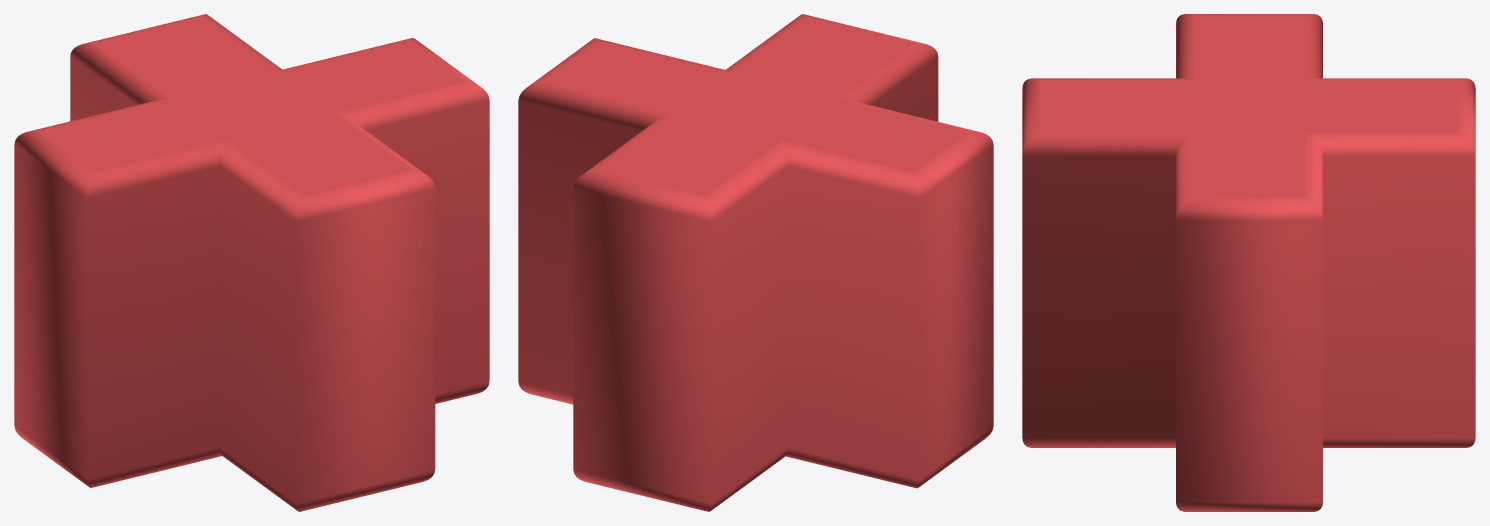
File: MathSymbol_Plus.glb
3 renders of one model, left to right at view 1: azimuth 30°, elevation 25°; view 2: azimuth 150°, elevation 25°; view 3: azimuth 270°, elevation 25°, orthographic.
Visible parts, largest first — view 1: Text; view 2: Text; view 3: Text.
Boxes of the visible parts, left/top/right/bottom form: Text: left=14, top=14, right=489, bottom=511; Text: left=518, top=14, right=993, bottom=511; Text: left=1022, top=14, right=1475, bottom=511.
Bounding box in the file's own units: 0.2688 × 0.2 × 0.2623.
